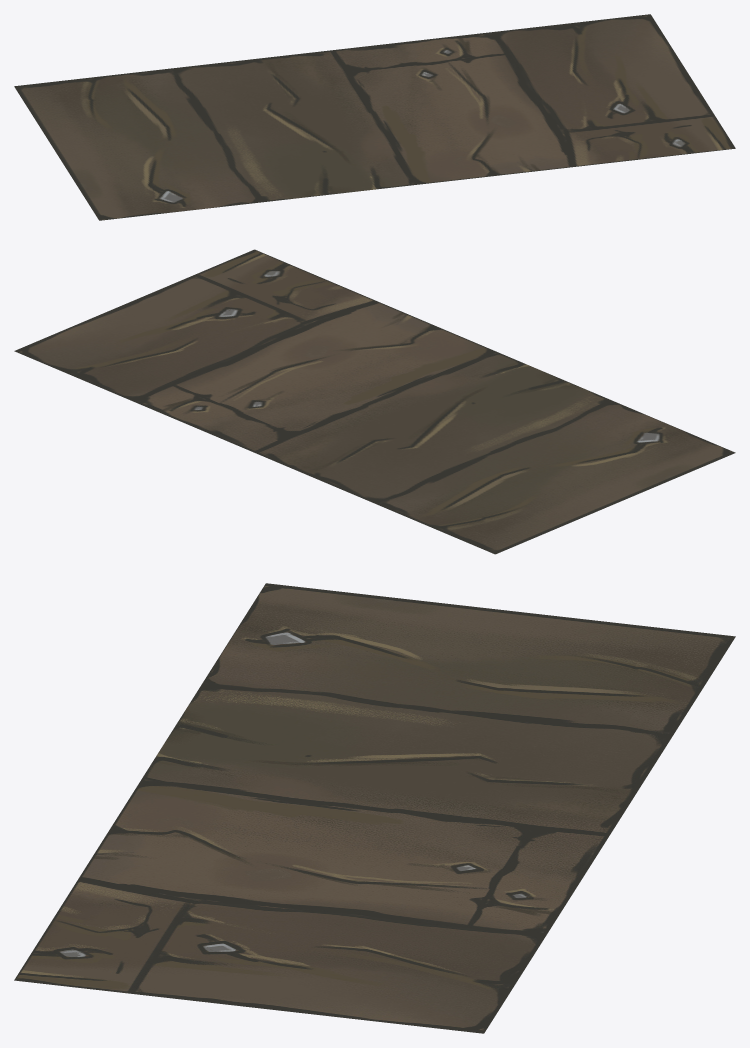
The model's file is polysurface253_txt_sol1_0_lev1_lev3_lev2.glb.
3 renders of one model, top to bottom at view 1: azimuth 30°, elevation 25°; view 2: azimuth 150°, elevation 25°; view 3: azimuth 270°, elevation 25°, orthographic. The views are drawn at different scales.
Visible parts, largest first — view 1: polysurface253_txt_sol1_0_lev1_lev3_lev2; view 2: polysurface253_txt_sol1_0_lev1_lev3_lev2; view 3: polysurface253_txt_sol1_0_lev1_lev3_lev2.
Part boxes in pixels (bbox=[...]): polysurface253_txt_sol1_0_lev1_lev3_lev2: bbox=[14, 14, 735, 220]; polysurface253_txt_sol1_0_lev1_lev3_lev2: bbox=[14, 249, 735, 554]; polysurface253_txt_sol1_0_lev1_lev3_lev2: bbox=[14, 583, 735, 1033].
Bounding box in the file's own units: 21.91 × 0 × 14.84.
Materials: 1 (1 with a texture image).
